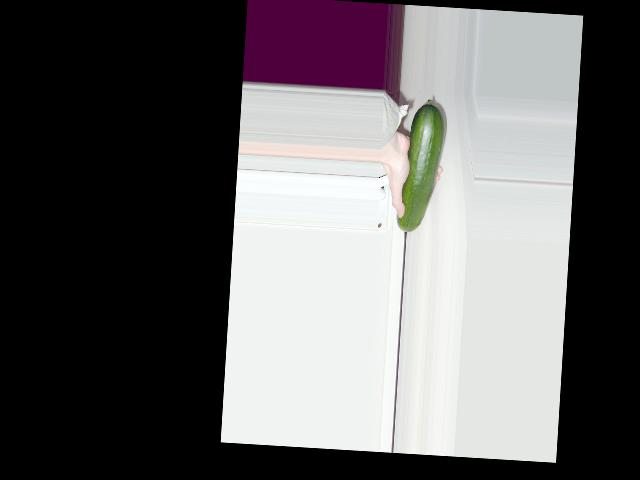cucumber: (396, 98, 448, 234)
